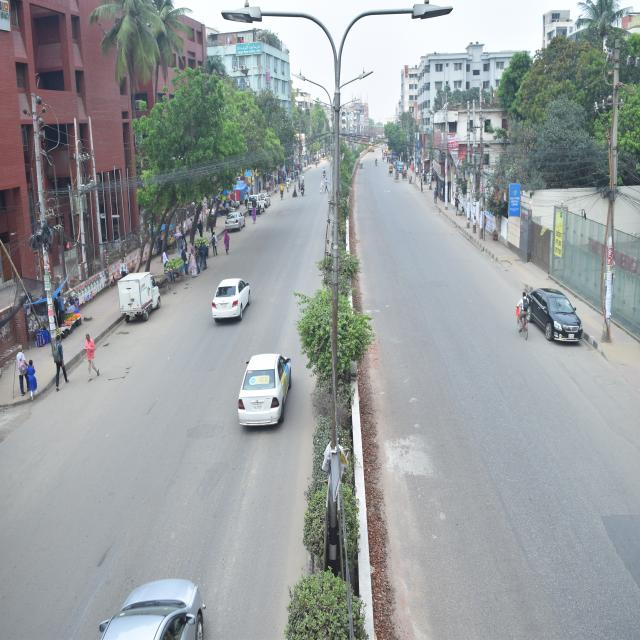car: (38, 569, 233, 640), (506, 253, 599, 380), (230, 338, 300, 446), (204, 265, 263, 324), (218, 206, 253, 240), (240, 191, 269, 222)
pickup-van: (112, 268, 163, 336)
